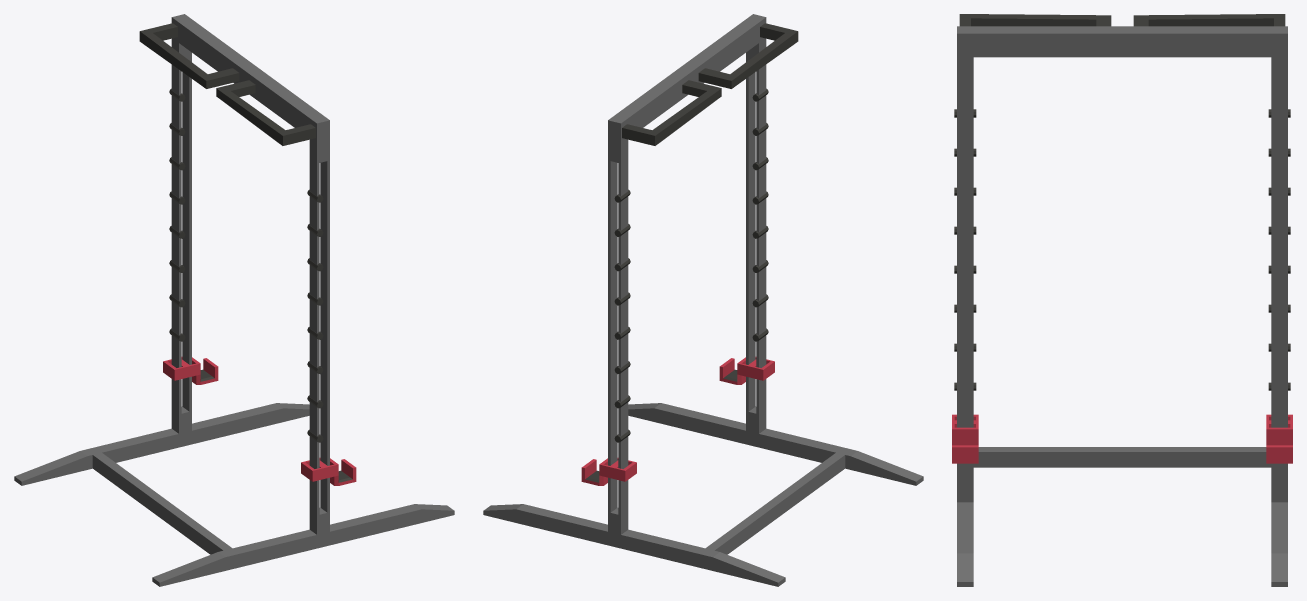
File: Power Cage.fbx
3 views of the same model, side by side, from view 1: azimuth 30°, elevation 25°; view 2: azimuth 150°, elevation 25°; view 3: azimuth 270°, elevation 25° (orthographic). The views are drawn at different scales.
Visible parts, largest first — view 1: Power Cage, Power Cage Left Handle, Power Cage Right Handle; view 2: Power Cage, Power Cage Left Handle, Power Cage Right Handle; view 3: Power Cage, Power Cage Left Handle, Power Cage Right Handle.
Boxes of the visible parts, left/top/right/bottom form: Power Cage: left=14, top=14, right=454, bottom=586; Power Cage Left Handle: left=301, top=458, right=356, bottom=485; Power Cage Right Handle: left=163, top=357, right=218, bottom=384; Power Cage: left=483, top=14, right=923, bottom=586; Power Cage Left Handle: left=719, top=357, right=774, bottom=384; Power Cage Right Handle: left=581, top=458, right=636, bottom=485; Power Cage: left=954, top=14, right=1290, bottom=586; Power Cage Left Handle: left=952, top=414, right=978, bottom=463; Power Cage Right Handle: left=1266, top=414, right=1292, bottom=463.
Bounding box in the file's own units: 450 × 620 × 396.
